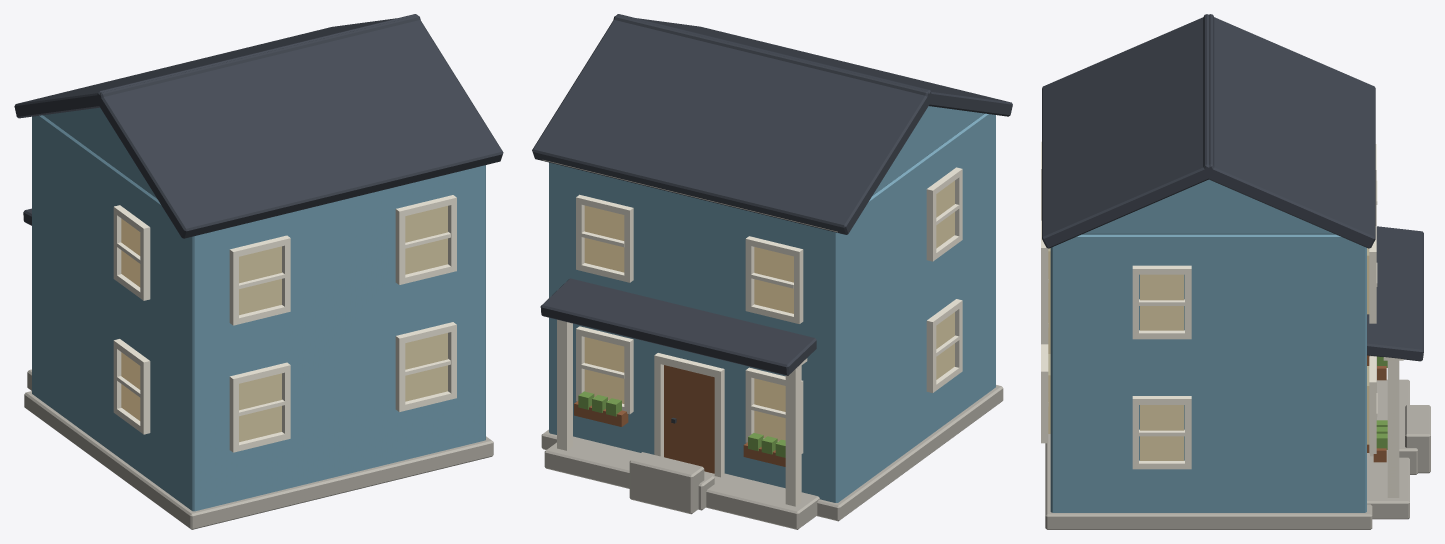
Rendered from house_porched_blue.glb.
3 renders of one model, left to right at view 1: azimuth 30°, elevation 25°; view 2: azimuth 150°, elevation 25°; view 3: azimuth 270°, elevation 25°, orthographic. The views are drawn at different scales.
Visible parts, largest first — view 1: Building_House_Porched_Blue_Blue, Building_House_Porched_Blue_Roof_Dark, Building_House_Porched_Blue_Trim, Building_House_Porched_Blue_Glass, Building_House_Porched_Blue_Concrete; view 2: Building_House_Porched_Blue_Blue, Building_House_Porched_Blue_Roof_Dark, Building_House_Porched_Blue_Trim, Building_House_Porched_Blue_Concrete, Building_House_Porched_Blue_Glass, Building_House_Porched_Blue_Wood, Building_House_Porched_Blue_Green; view 3: Building_House_Porched_Blue_Blue, Building_House_Porched_Blue_Roof_Dark, Building_House_Porched_Blue_Concrete, Building_House_Porched_Blue_Trim, Building_House_Porched_Blue_Glass.
Part boxes in pixels (x1,y1,x2,y2): Building_House_Porched_Blue_Blue: (32,107,485,511); Building_House_Porched_Blue_Roof_Dark: (14,14,503,238); Building_House_Porched_Blue_Trim: (113,195,456,452); Building_House_Porched_Blue_Glass: (121,206,447,442); Building_House_Porched_Blue_Concrete: (24,369,493,529); Building_House_Porched_Blue_Blue: (549,106,995,502); Building_House_Porched_Blue_Roof_Dark: (532,14,1012,375); Building_House_Porched_Blue_Trim: (543,160,962,506); Building_House_Porched_Blue_Concrete: (541,385,1003,529); Building_House_Porched_Blue_Glass: (584,180,954,441); Building_House_Porched_Blue_Wood: (574,365,785,473); Building_House_Porched_Blue_Green: (578,391,785,457); Building_House_Porched_Blue_Blue: (1050,179,1366,512); Building_House_Porched_Blue_Roof_Dark: (1042,14,1423,361); Building_House_Porched_Blue_Concrete: (1045,379,1430,529); Building_House_Porched_Blue_Trim: (1041,141,1403,497); Building_House_Porched_Blue_Glass: (1048,248,1369,460).
Bounding box in the file's own units: 5 × 5.67 × 5.43.
